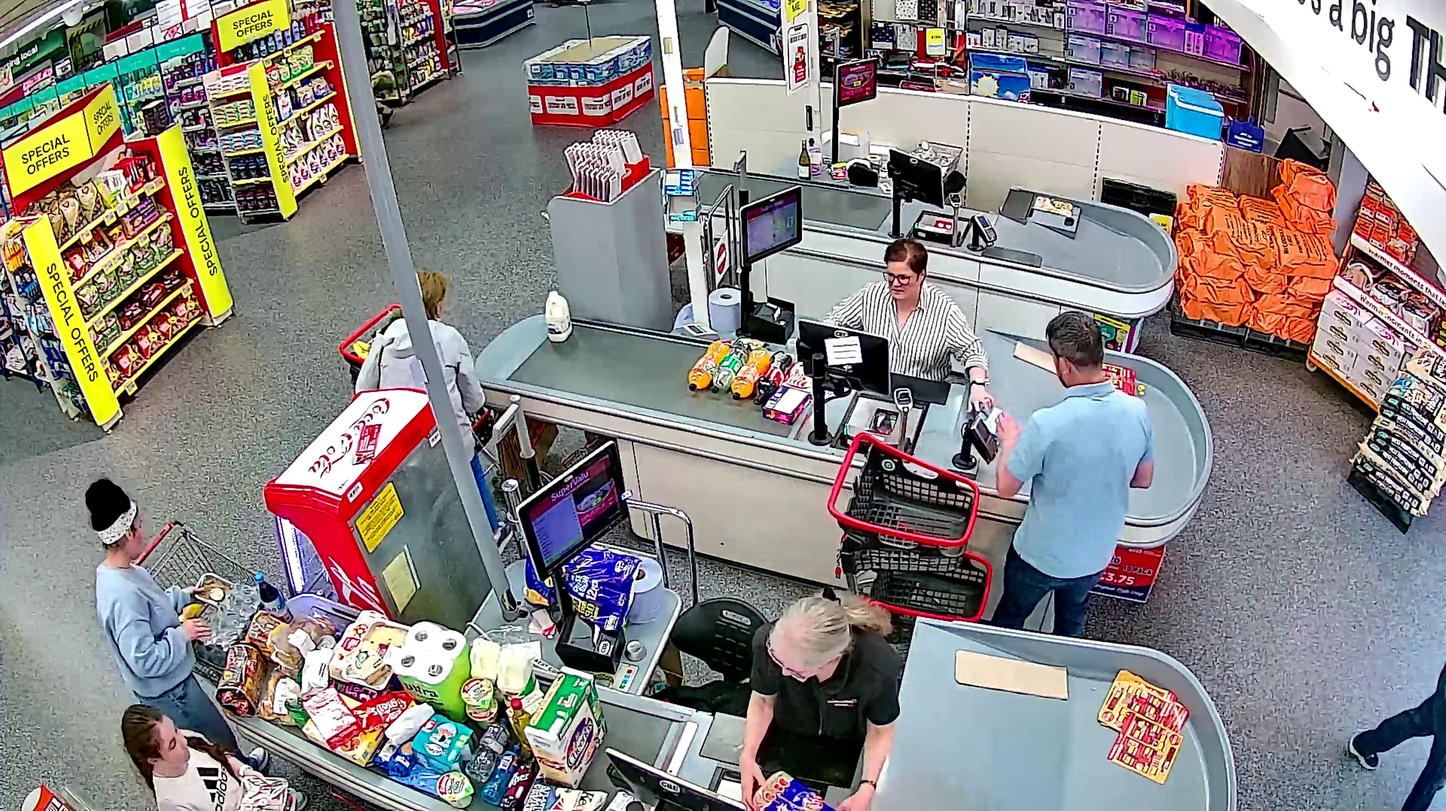empty-trolly: (828, 428, 993, 623)
occupied-checkout-counter: (518, 439, 904, 811), (733, 177, 1011, 479)
vacant-checkout-counter: (828, 51, 1032, 249)
